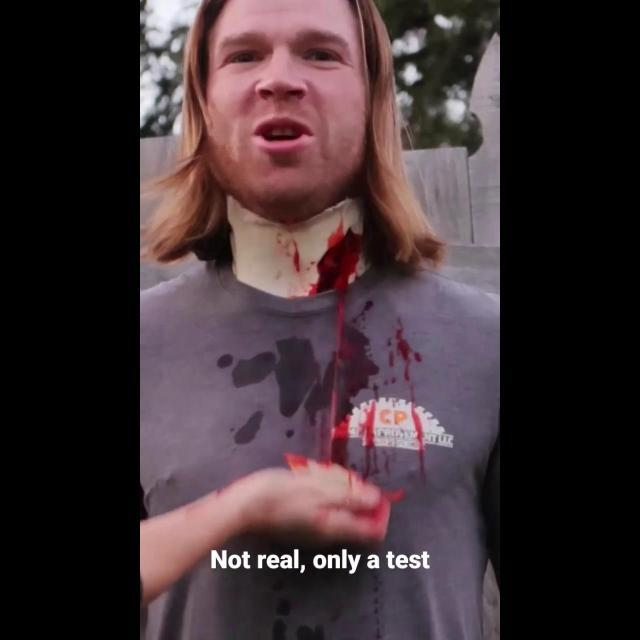blood: (232, 199, 452, 483)
